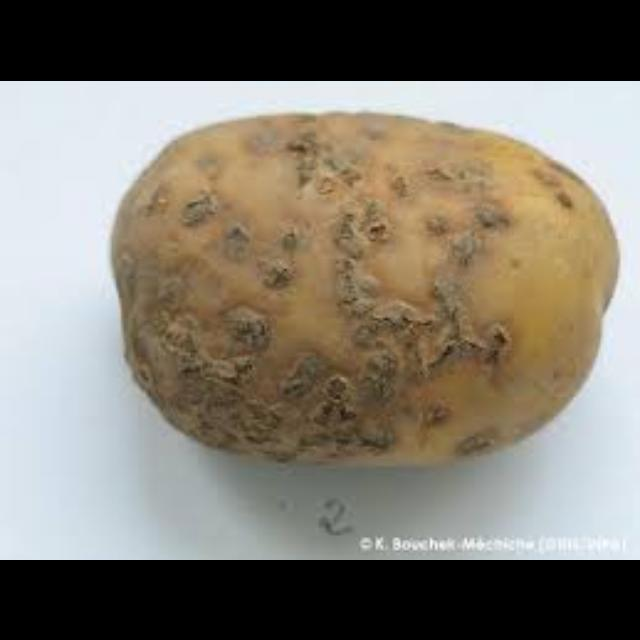Diseased-fungal potato: (91, 100, 634, 478)
